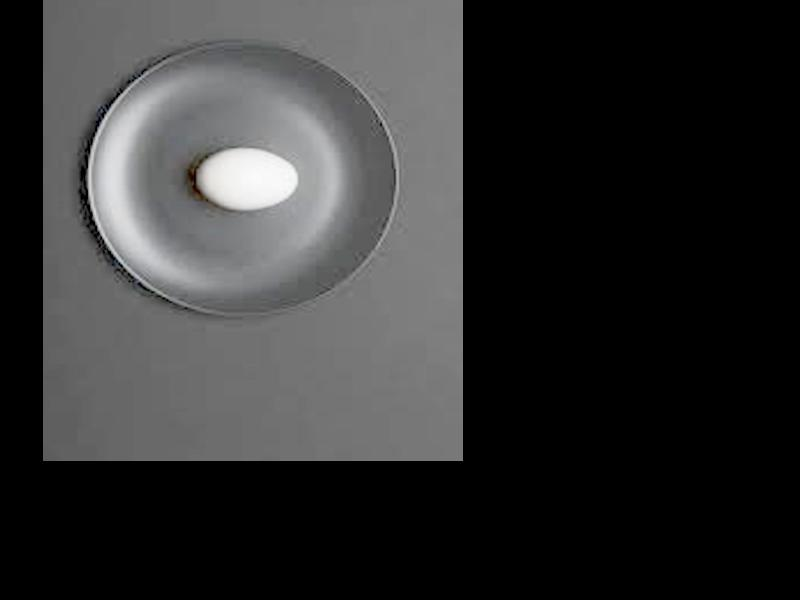Eggs: (198, 148, 297, 211)
